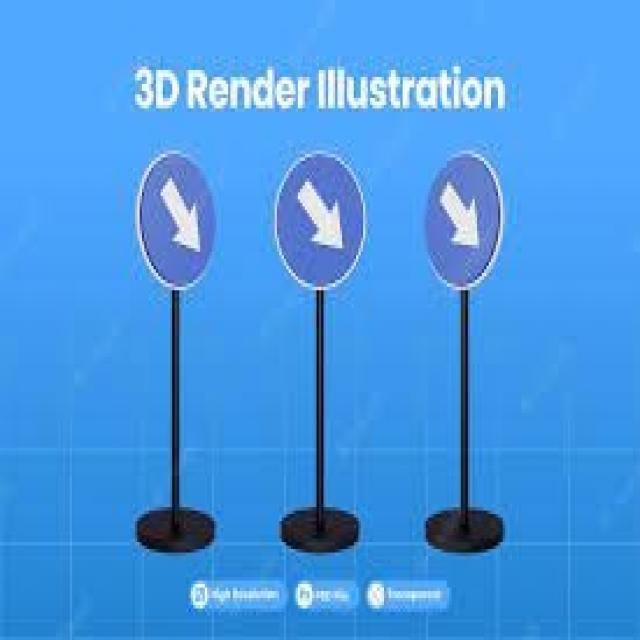compulsory_keep_right: (268, 143, 366, 301), (129, 145, 223, 301), (419, 149, 510, 301)
